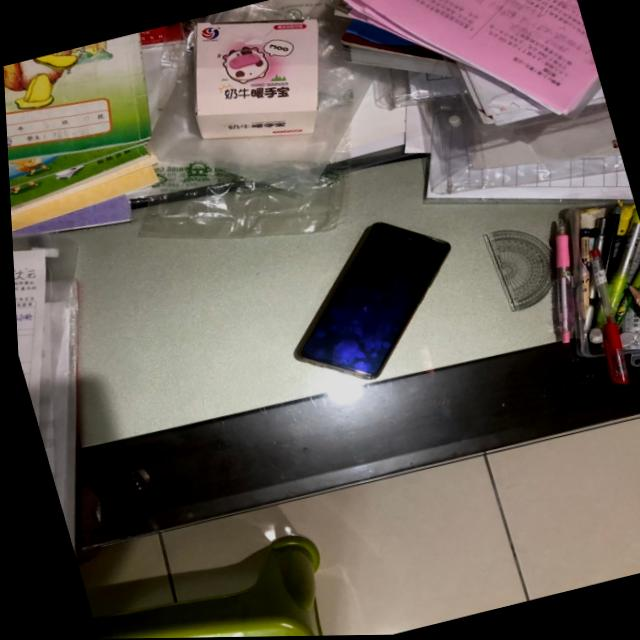Smartphone: (262, 206, 465, 403)
